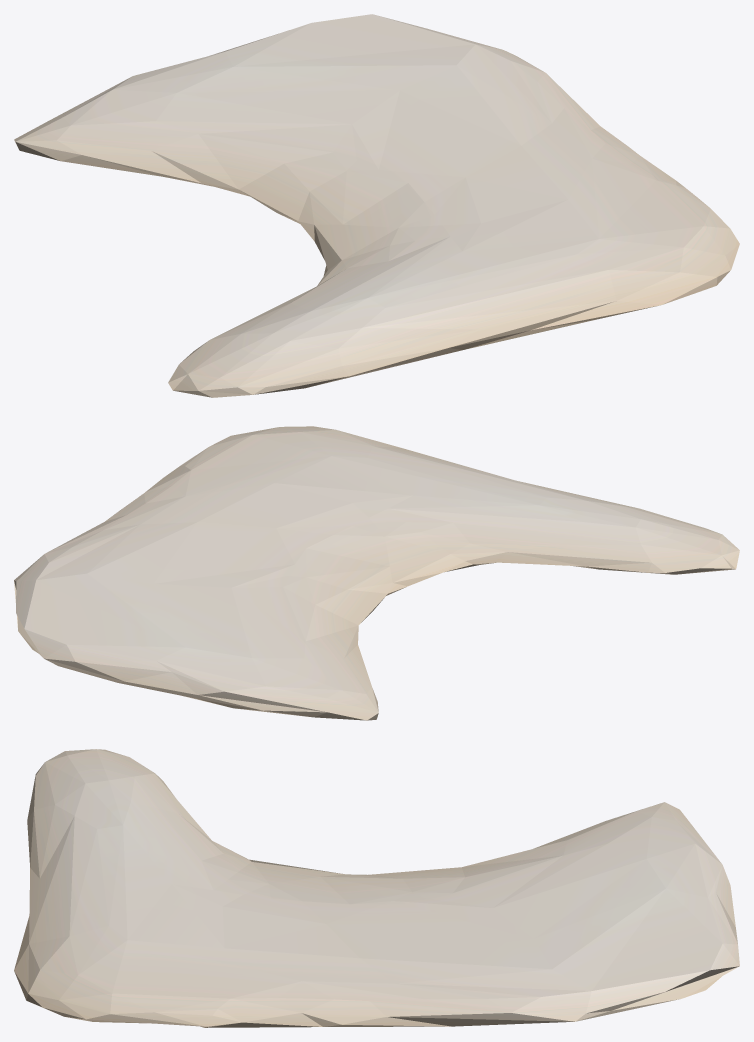
3 views of the same model, one above another, from view 1: azimuth 30°, elevation 25°; view 2: azimuth 150°, elevation 25°; view 3: azimuth 270°, elevation 25° (orthographic). The views are drawn at different scales.
Parts seen in each view (by area): view 1: BeachPart_U; view 2: BeachPart_U; view 3: BeachPart_U.
Part boxes in pixels (box(x1,y1,x2,y2)): BeachPart_U: box(14, 14, 739, 397); BeachPart_U: box(14, 426, 739, 720); BeachPart_U: box(14, 749, 739, 1027).
Size of the model in its own units: 86.83 by 6.18 by 92.71.
1 material, 1 textured.
